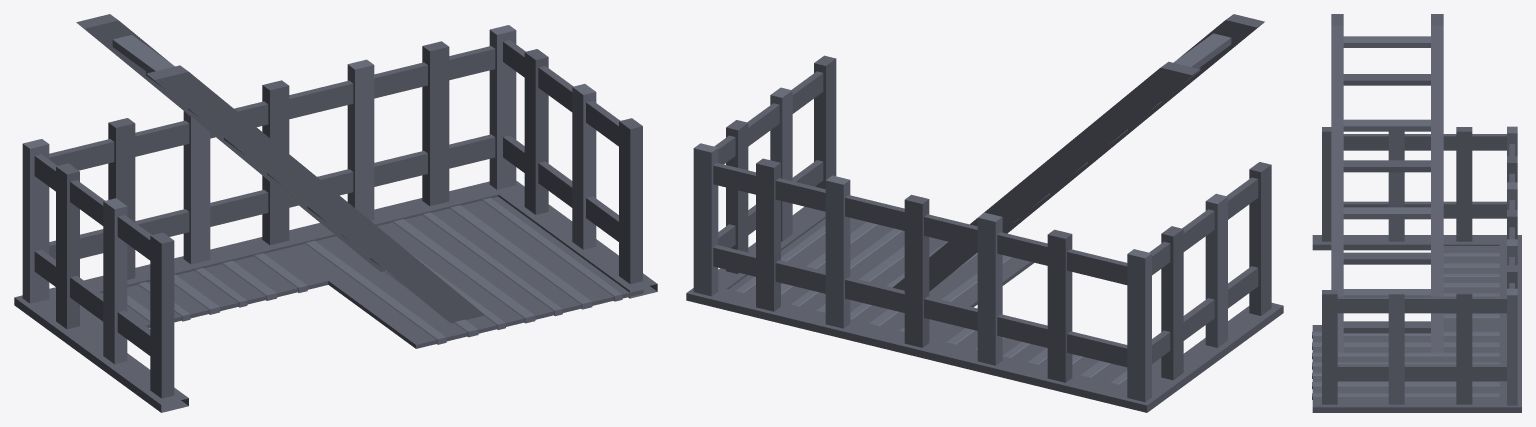
The model's file is SM_House_Stairs_1A.fbx.
3 renders of one model, left to right at view 1: azimuth 30°, elevation 25°; view 2: azimuth 150°, elevation 25°; view 3: azimuth 270°, elevation 25°, orthographic. The views are drawn at different scales.
Visible parts, largest first — view 1: SM_House_Stairs_1A_LOD0; view 2: SM_House_Stairs_1A_LOD0; view 3: SM_House_Stairs_1A_LOD0.
Part boxes in pixels (<box>): SM_House_Stairs_1A_LOD0: <box>14,14,657,412</box>; SM_House_Stairs_1A_LOD0: <box>686,14,1283,412</box>; SM_House_Stairs_1A_LOD0: <box>1312,14,1521,412</box>.
Bounding box in the file's own units: 327 × 168 × 203.
1 material, 1 textured.
